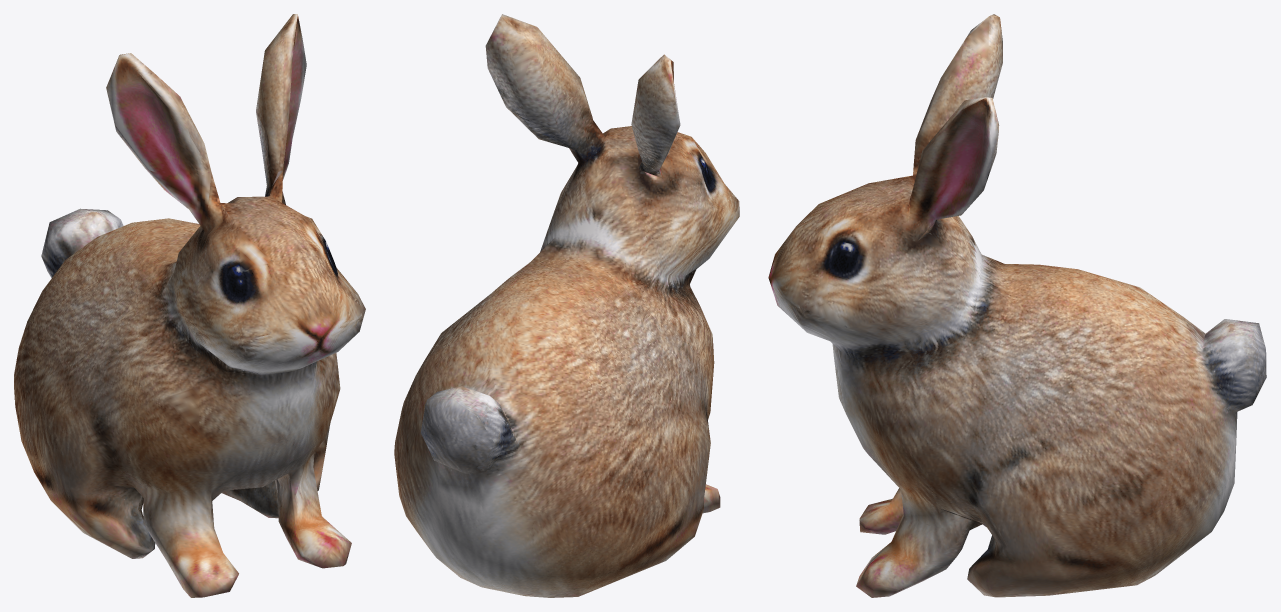
Rendered from Rabbit_Low_Poly.fbx.
3 renders of one model, left to right at view 1: azimuth 30°, elevation 25°; view 2: azimuth 150°, elevation 25°; view 3: azimuth 270°, elevation 25°, orthographic.
Parts seen in each view (by area): view 1: Rabbit_Low_Poly; view 2: Rabbit_Low_Poly; view 3: Rabbit_Low_Poly.
Boxes of the visible parts, x1,y1,x2,y2 form: Rabbit_Low_Poly: [14, 14, 365, 597]; Rabbit_Low_Poly: [394, 14, 739, 597]; Rabbit_Low_Poly: [768, 14, 1266, 597].
Size of the model in its own units: 18.19 by 33.11 by 29.55.
1 material, 1 textured.
